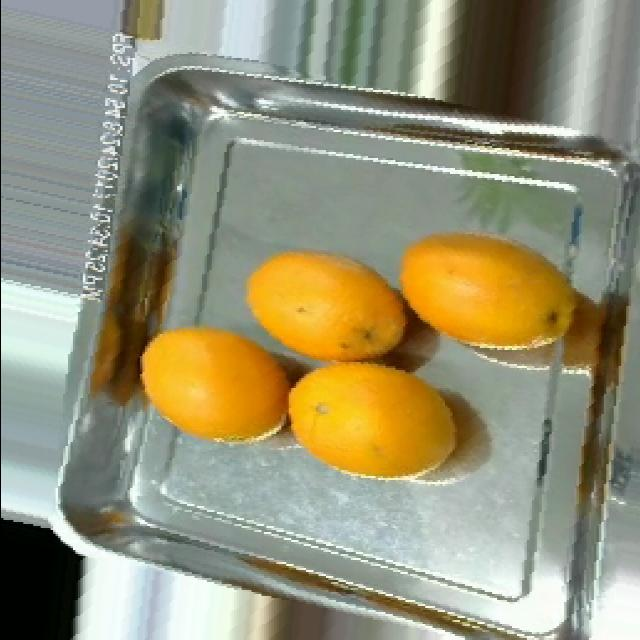Fruit: (119, 302, 325, 468), (263, 346, 474, 498), (377, 214, 585, 352), (228, 234, 422, 376), (0, 500, 99, 640)
